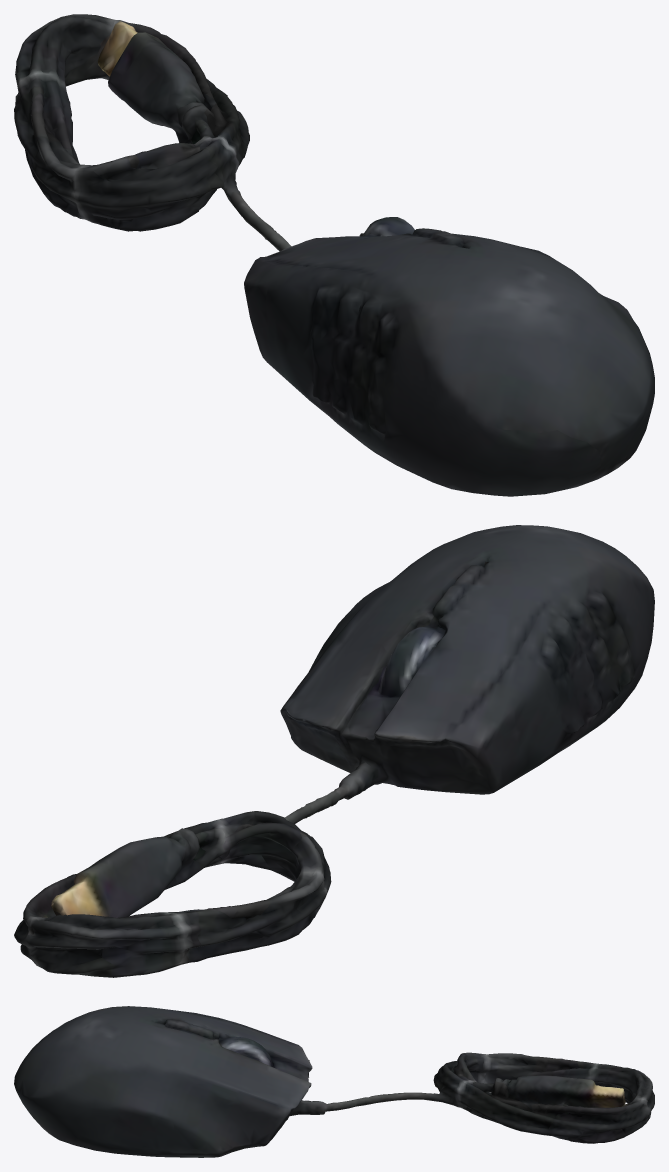
File: Razer_Naga_MMO_Gaming_Mouse-high.glb
The picture shows the model from 3 angles, top to bottom: view 1: azimuth 30°, elevation 25°; view 2: azimuth 150°, elevation 25°; view 3: azimuth 270°, elevation 25°; orthographic projection. The views are drawn at different scales.
Parts seen in each view (by area): view 1: Razer_Naga_MMO_Gaming_Mouse; view 2: Razer_Naga_MMO_Gaming_Mouse; view 3: Razer_Naga_MMO_Gaming_Mouse.
Boxes of the visible parts, x1=… form: Razer_Naga_MMO_Gaming_Mouse: x1=14, y1=14, x2=654, y2=496; Razer_Naga_MMO_Gaming_Mouse: x1=14, y1=525, x2=654, y2=977; Razer_Naga_MMO_Gaming_Mouse: x1=14, y1=1006, x2=654, y2=1157.
Bounding box in the file's own units: 0.0748 × 0.0434 × 0.2551.
Materials: 1 (1 with a texture image).
